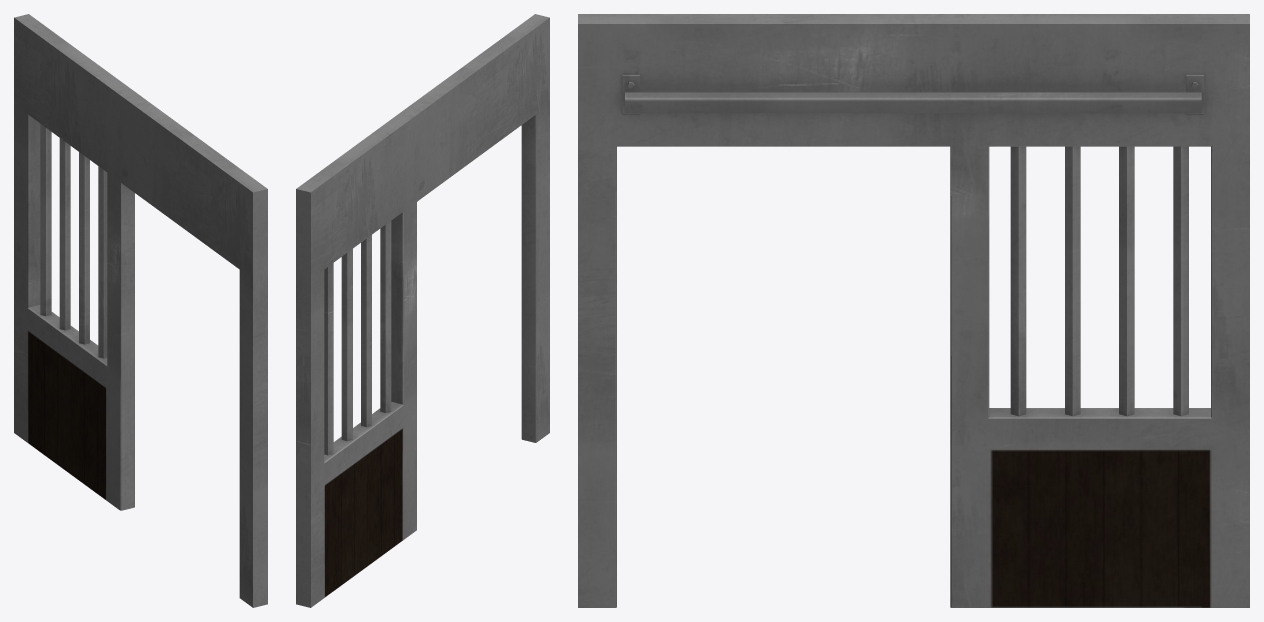
File: StableBox_DoorFrame_LP.glb
The picture shows the model from 3 angles, left to right: view 1: azimuth 30°, elevation 25°; view 2: azimuth 150°, elevation 25°; view 3: azimuth 270°, elevation 25°; orthographic projection. The views are drawn at different scales.
Visible parts, largest first — view 1: StableBox_DoorFrame_LP; view 2: StableBox_DoorFrame_LP; view 3: StableBox_DoorFrame_LP.
Boxes of the visible parts, x1=… form: StableBox_DoorFrame_LP: x1=14, y1=14, x2=267, y2=607; StableBox_DoorFrame_LP: x1=296, y1=14, x2=549, y2=607; StableBox_DoorFrame_LP: x1=578, y1=14, x2=1249, y2=607.
Size of the model in its own units: 0.2742 by 4.17 by 4.34.
2 materials, 2 textured.
